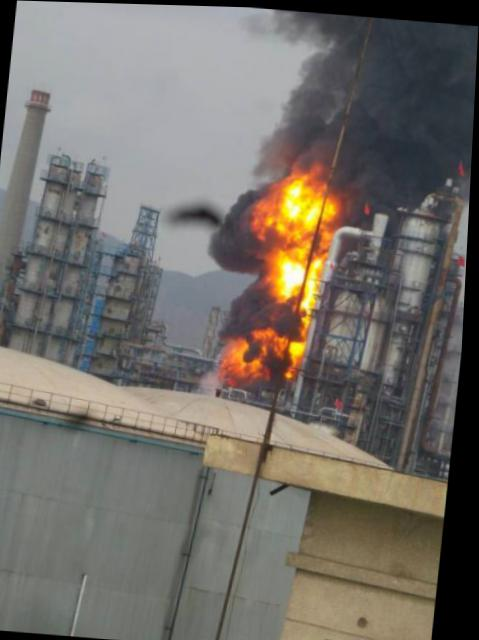fire: (262, 176, 326, 242), (303, 253, 326, 333), (271, 250, 309, 298), (321, 193, 343, 251), (229, 356, 270, 382), (255, 324, 294, 350), (291, 337, 310, 372), (229, 335, 252, 357)
